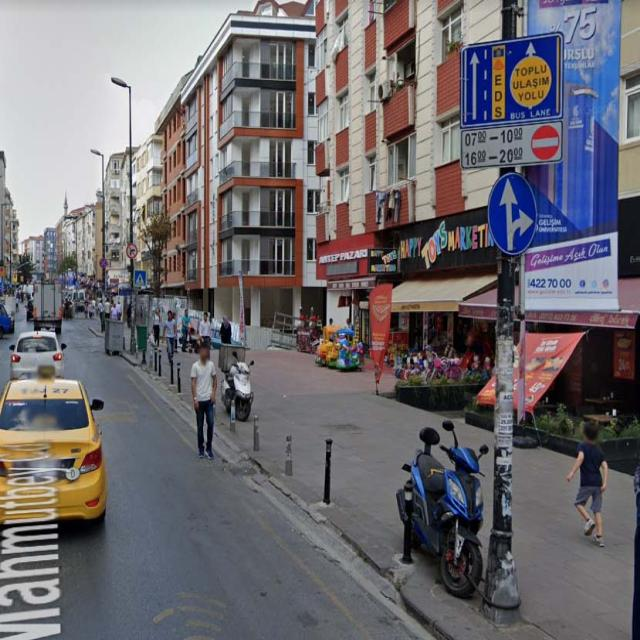girisyok: (532, 126, 559, 160)
ilerisag: (487, 172, 537, 254)
sagadonulmez: (126, 245, 138, 260)
